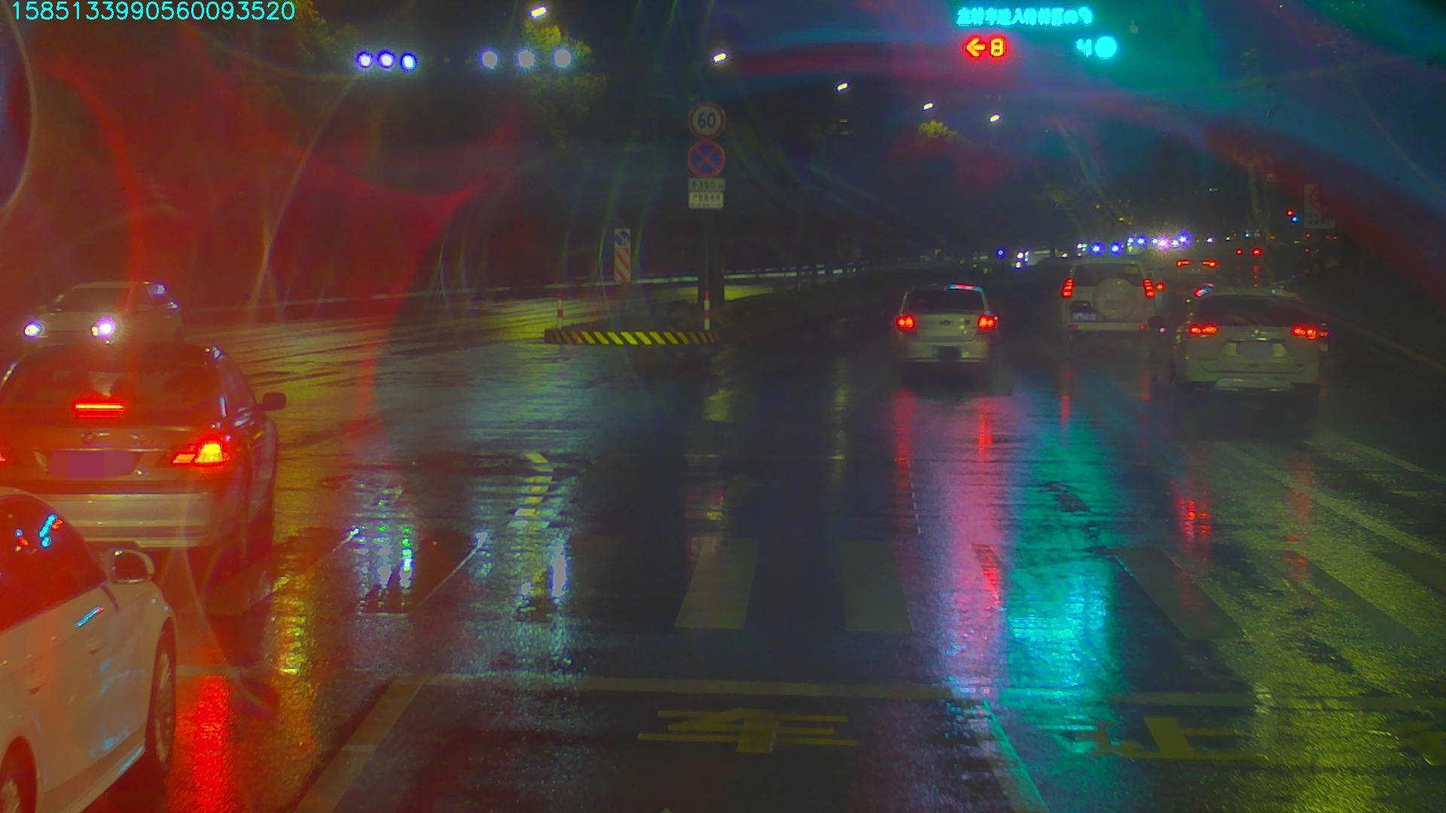green: (1060, 35, 1124, 64)
red: (959, 32, 1003, 62)
wait_on: (945, 8, 1103, 31)
